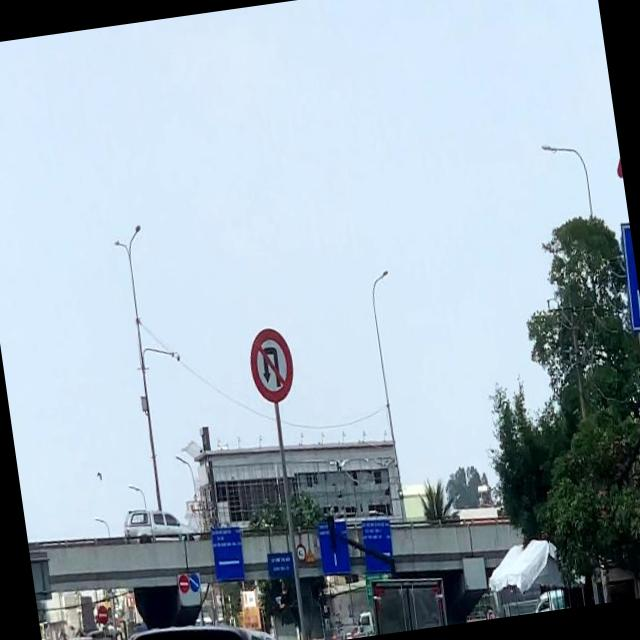P-124a1: (245, 325, 298, 404)
